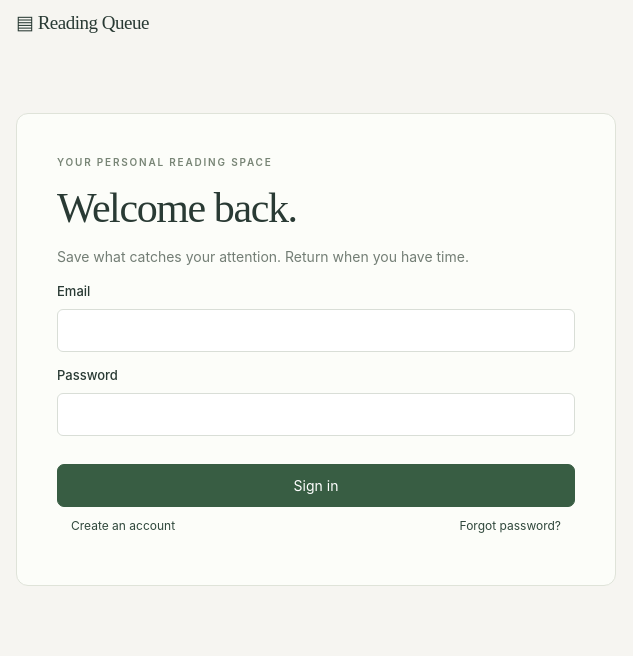
it: preserves login input and displays an actionable failure
Type "reader@example.test" into the field labelled "Email" at (316, 331), box [57, 309, 575, 352]
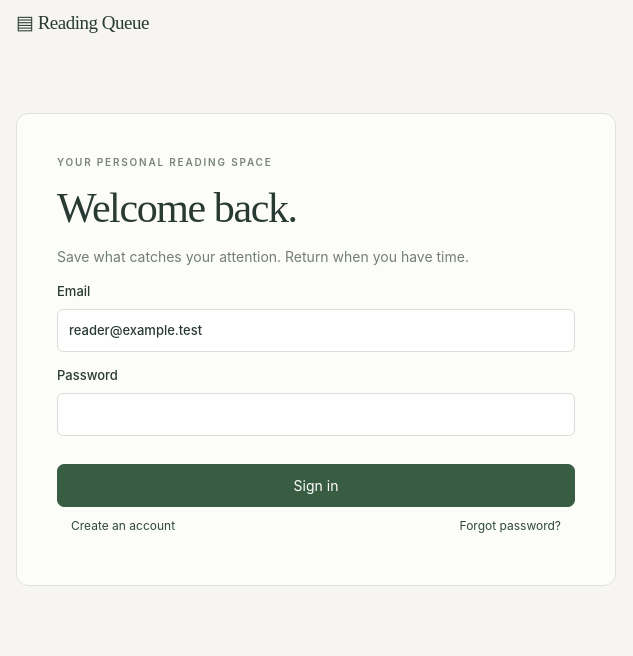
Type "long-password" into the password field labelled "Password" at (316, 415), box [57, 393, 575, 436]
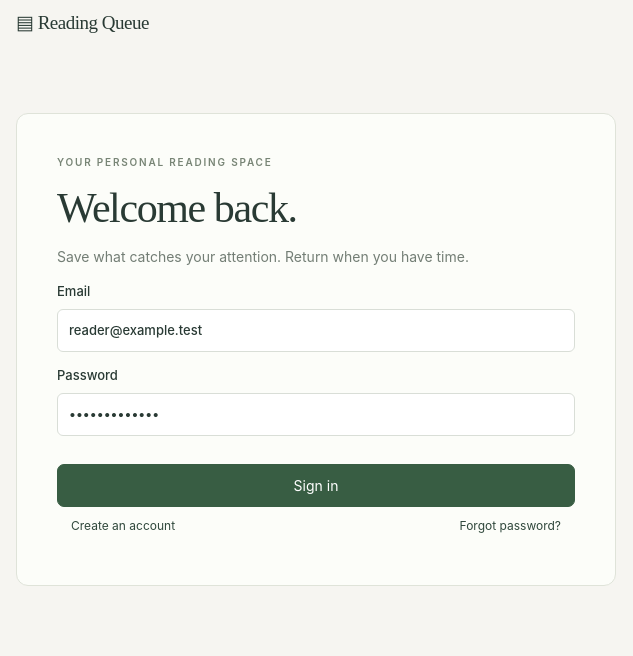
Click the button "Sign in" at (316, 486), box [57, 464, 575, 507]
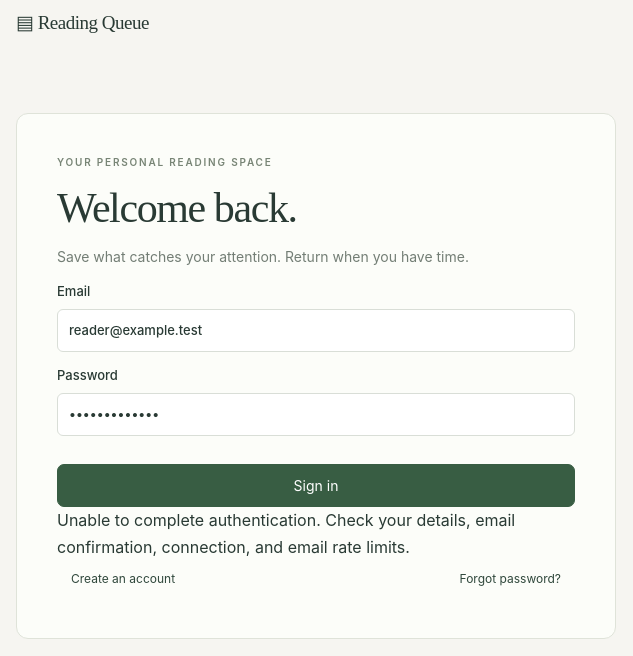
Result: the text "Unable to complete authentication" is shown at [57, 510, 515, 557]
